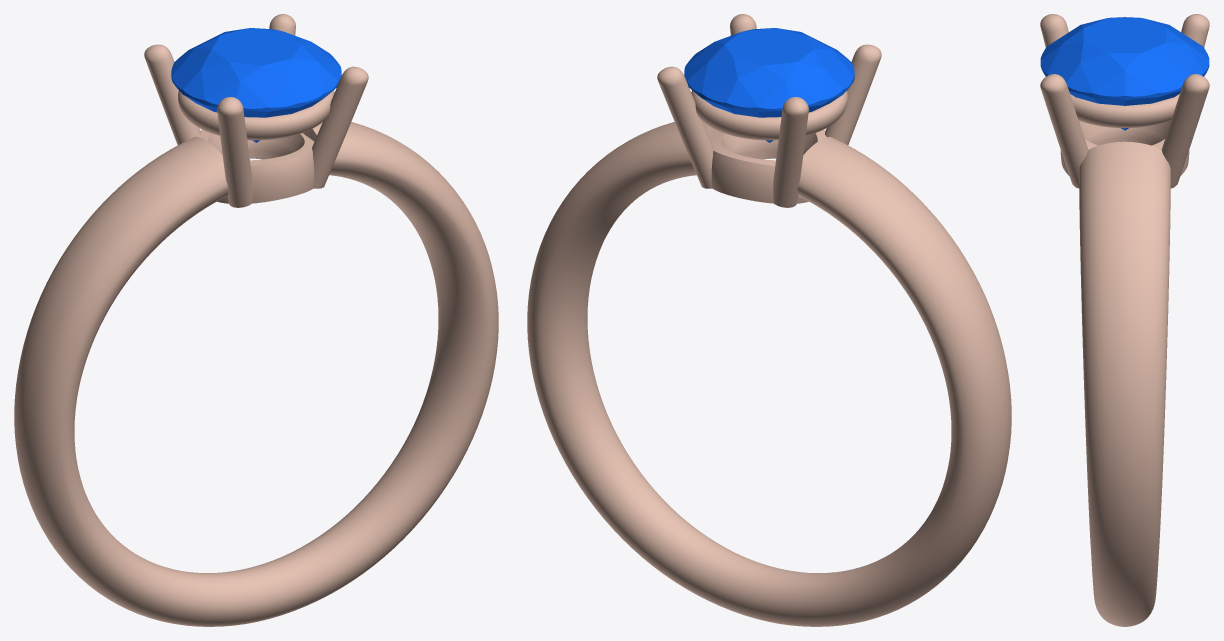
The model's file is bluesapphire-round-rosegold-4prong-taperedband-nosidestones.glb.
3 renders of one model, left to right at view 1: azimuth 30°, elevation 25°; view 2: azimuth 150°, elevation 25°; view 3: azimuth 270°, elevation 25°, orthographic.
Visible parts, largest first — view 1: metal, stone; view 2: metal, stone; view 3: metal, stone.
Boxes of the visible parts, x1,y1,x2,y2 form: metal: [14, 14, 498, 626]; stone: [171, 28, 341, 142]; metal: [527, 14, 1011, 626]; stone: [684, 28, 854, 142]; metal: [1040, 14, 1209, 626]; stone: [1040, 17, 1209, 130].
Size of the model in its own units: 20.5 by 23.81 by 6.45.
